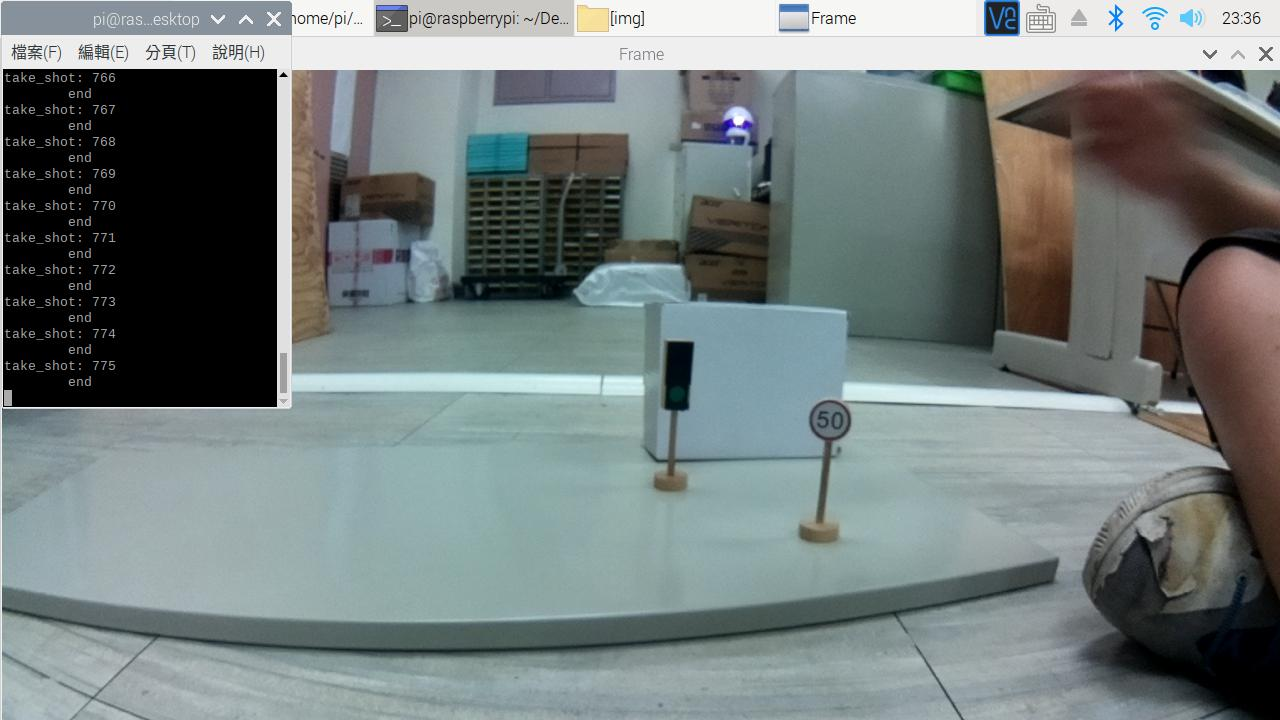Green: (655, 331, 704, 422)
Speed50: (798, 392, 865, 446)
